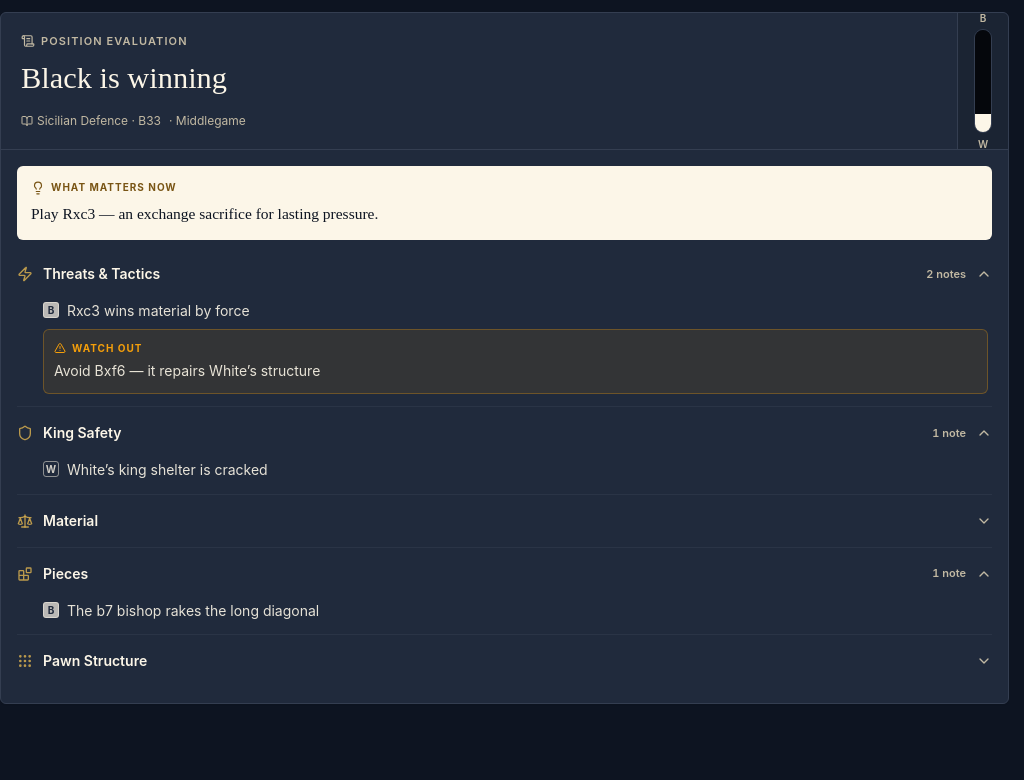
Test: PositionExplanationCard — populated (desktop, all populated sections open) › keeps empty major sections collapsed on desktop, and hides a minor section
Expected: the text "Nothing notable here." is not shown
// Expanding an empty major reveals the neutral placeholder.
Click the button "Material". click: point(71, 520)
box: 17,495 -> 992,547
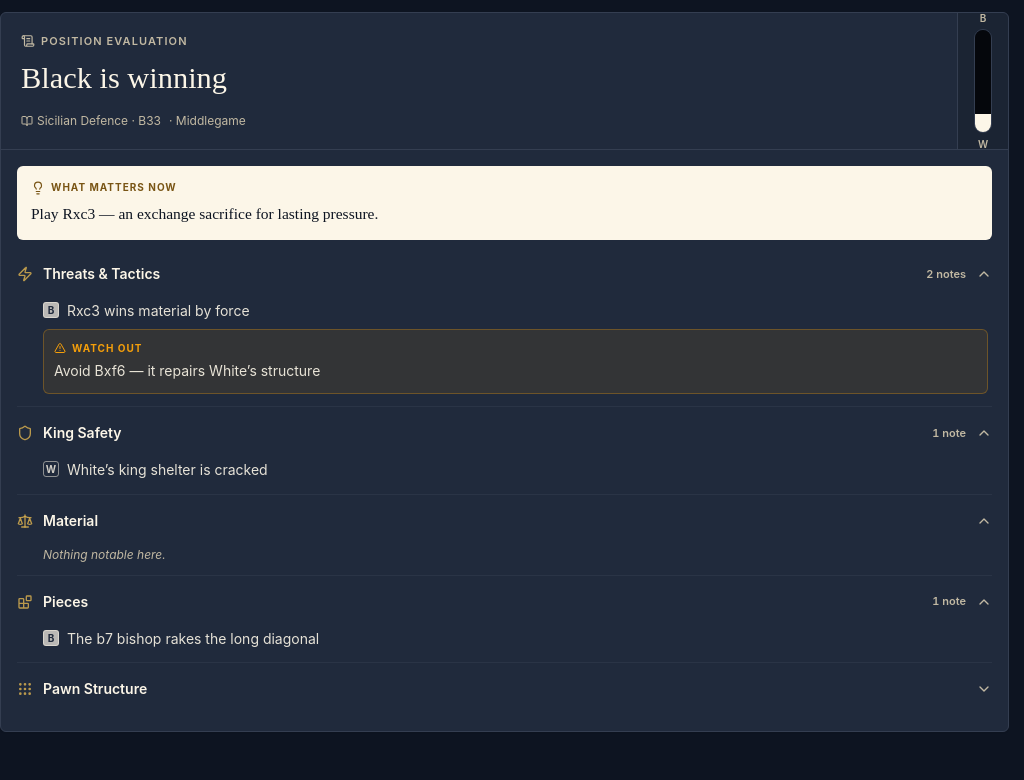
Expected: the text "Nothing notable here." is shown, 43,547 -> 166,562
